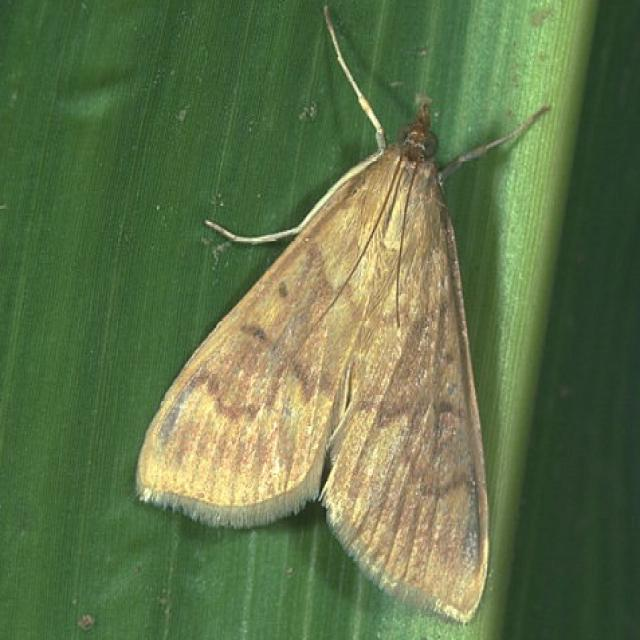cornborer-Adult-: (126, 94, 571, 626)
